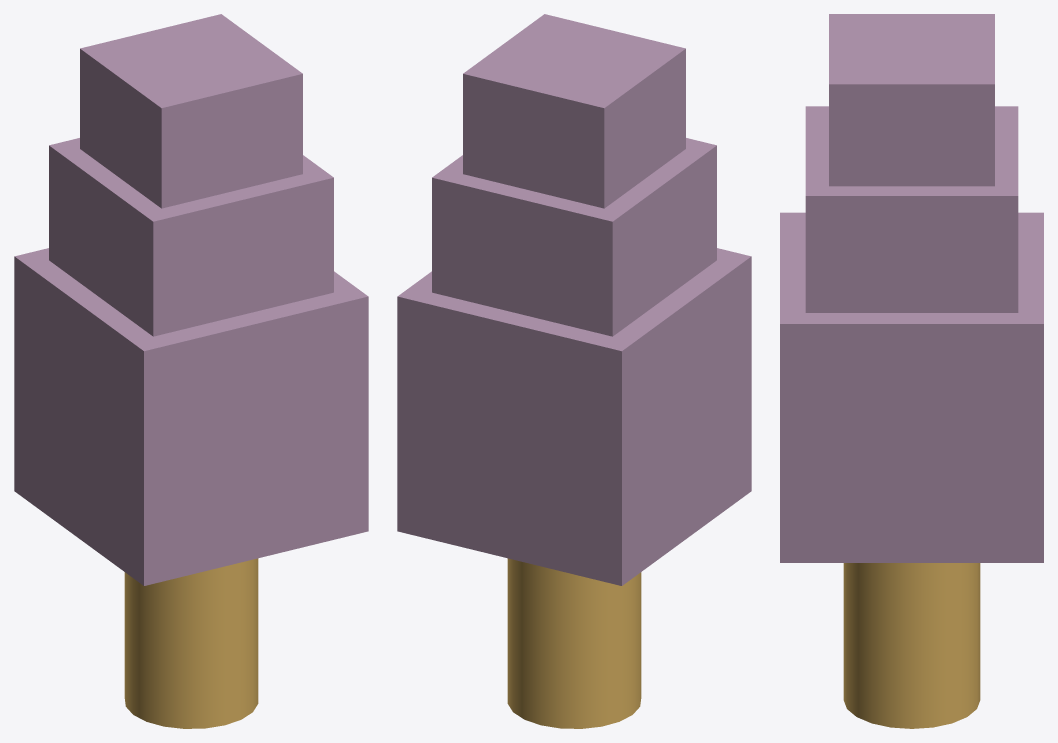
The model's file is cubos_roxo.fbx.
3 renders of one model, left to right at view 1: azimuth 30°, elevation 25°; view 2: azimuth 150°, elevation 25°; view 3: azimuth 270°, elevation 25°, orthographic.
Visible parts, largest first — view 1: pCube9, pCube8, pCube7, arvore26; view 2: pCube9, pCube8, pCube7, arvore26; view 3: pCube9, pCube8, pCube7, arvore26.
Boxes of the visible parts, box(x1,y1,x2,y2) form: pCube9: box(14, 248, 368, 585); pCube8: box(49, 138, 333, 336); pCube7: box(80, 14, 302, 208); arvore26: box(124, 558, 258, 728); pCube9: box(397, 248, 751, 585); pCube8: box(432, 138, 716, 336); pCube7: box(463, 14, 685, 208); arvore26: box(507, 558, 641, 728); pCube9: box(780, 212, 1043, 562); pCube8: box(805, 106, 1018, 312); pCube7: box(829, 14, 994, 186); arvore26: box(843, 563, 980, 728).
Size of the model in its own units: 1.1 by 2.98 by 1.1.
